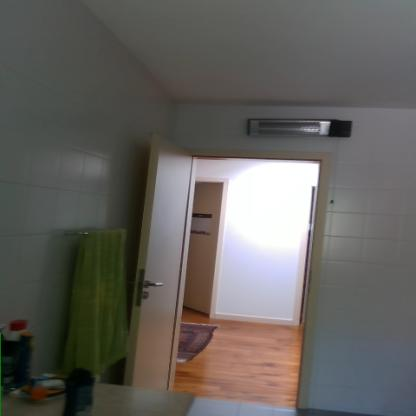open: (128, 128, 337, 413)
